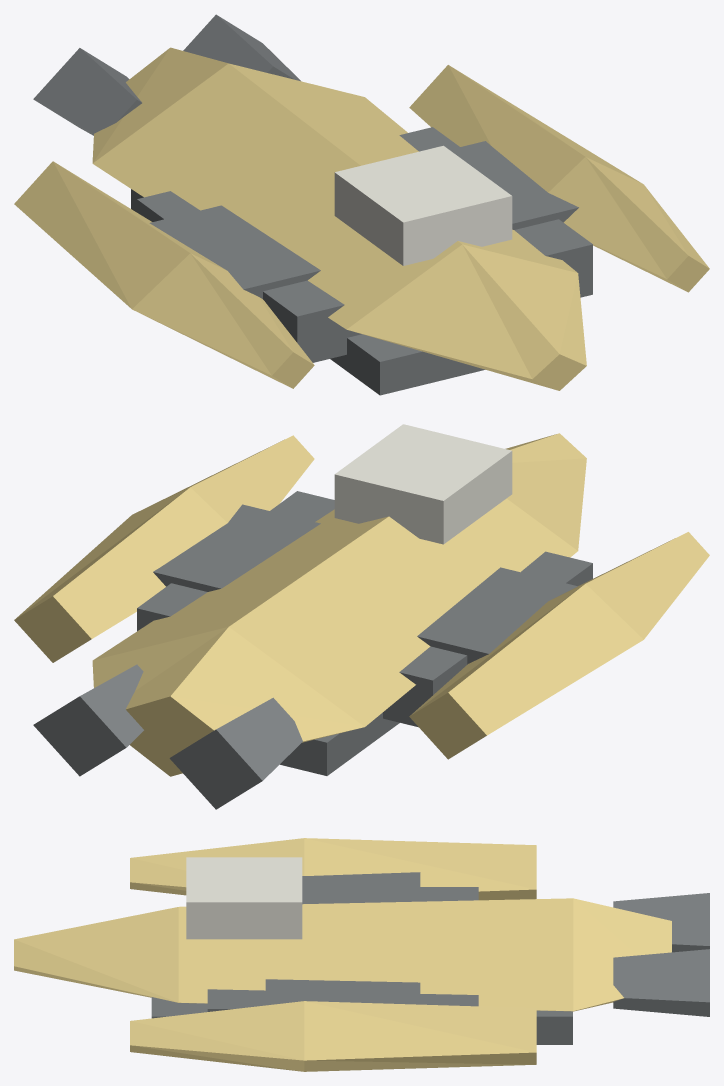
3 views of the same model, one above another, from view 1: azimuth 30°, elevation 25°; view 2: azimuth 150°, elevation 25°; view 3: azimuth 270°, elevation 25° (orthographic). The views are drawn at different scales.
Size of the model in its own units: 5.63 by 1.64 by 7.84.
